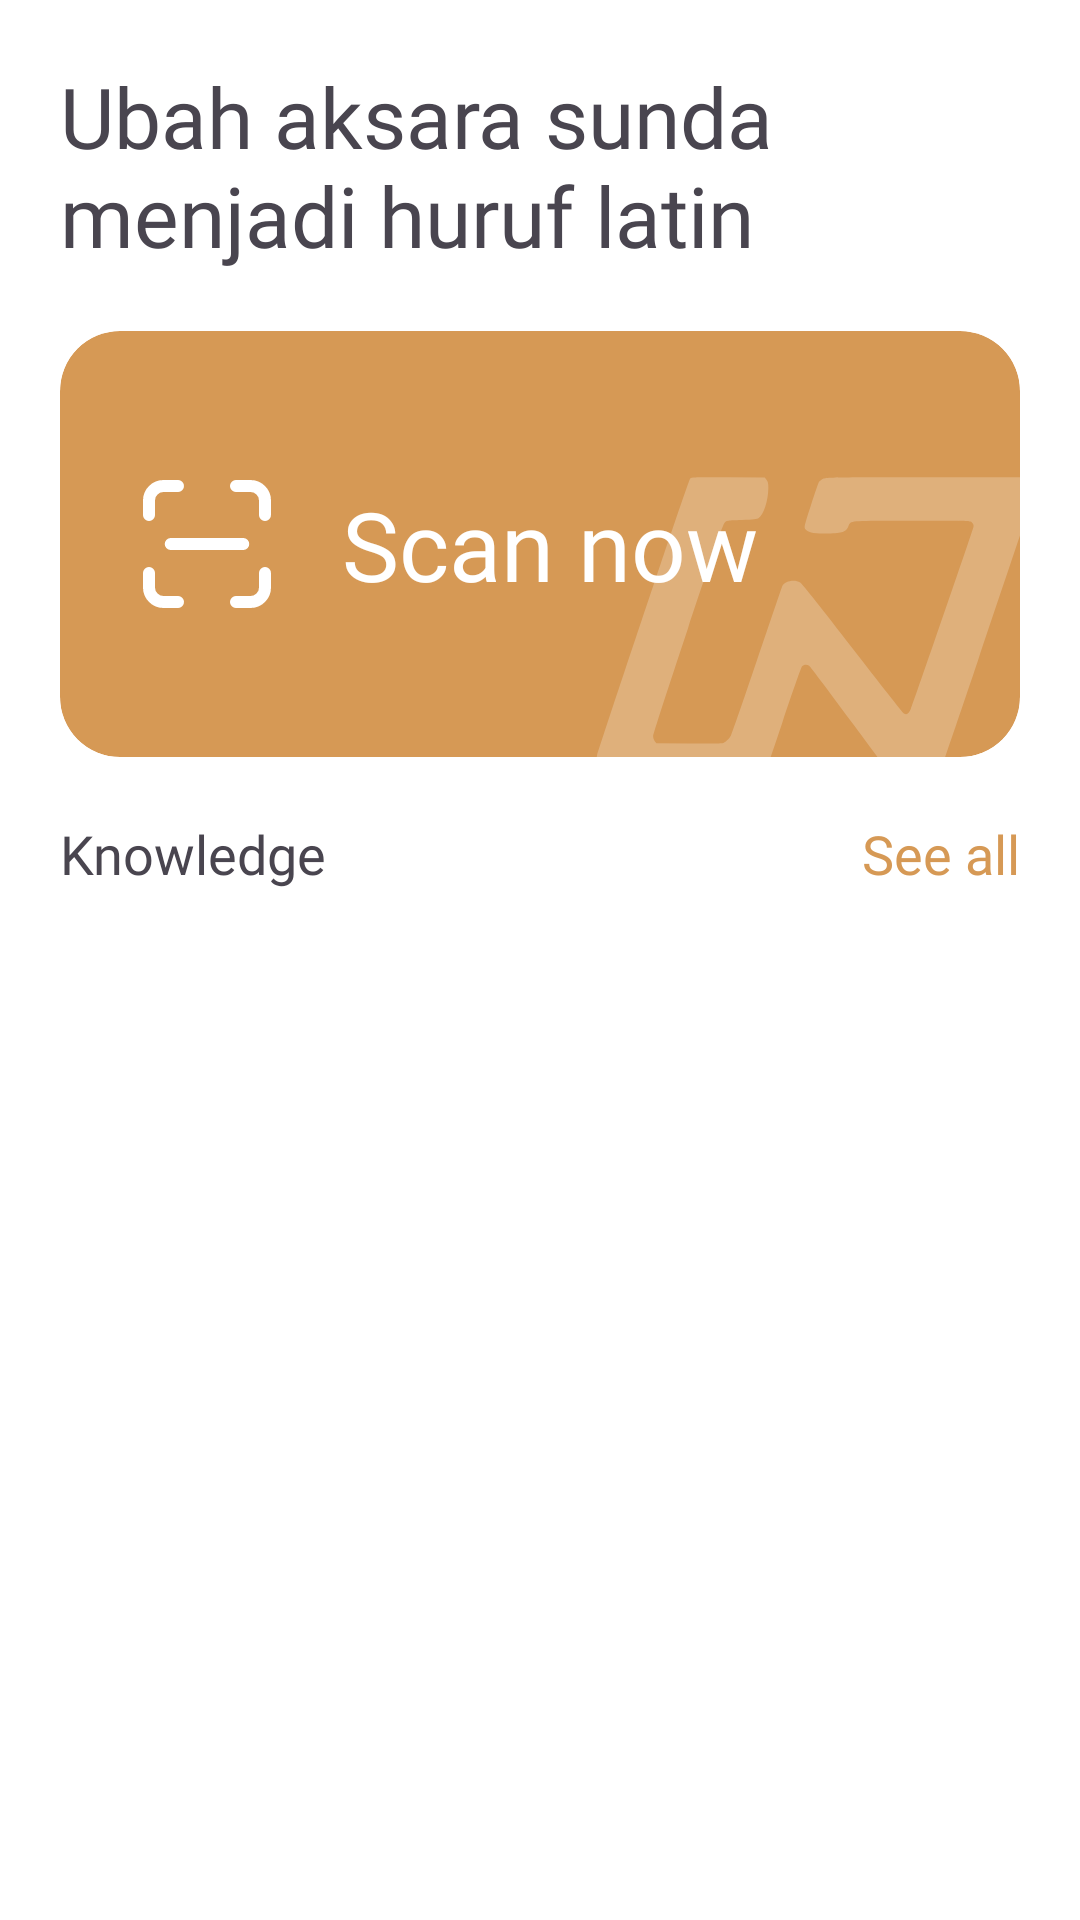

Icons on this 1080px x 1920px Android screen, each with the point to tap as point (x, y):
tabler line scan: point (207, 544)
